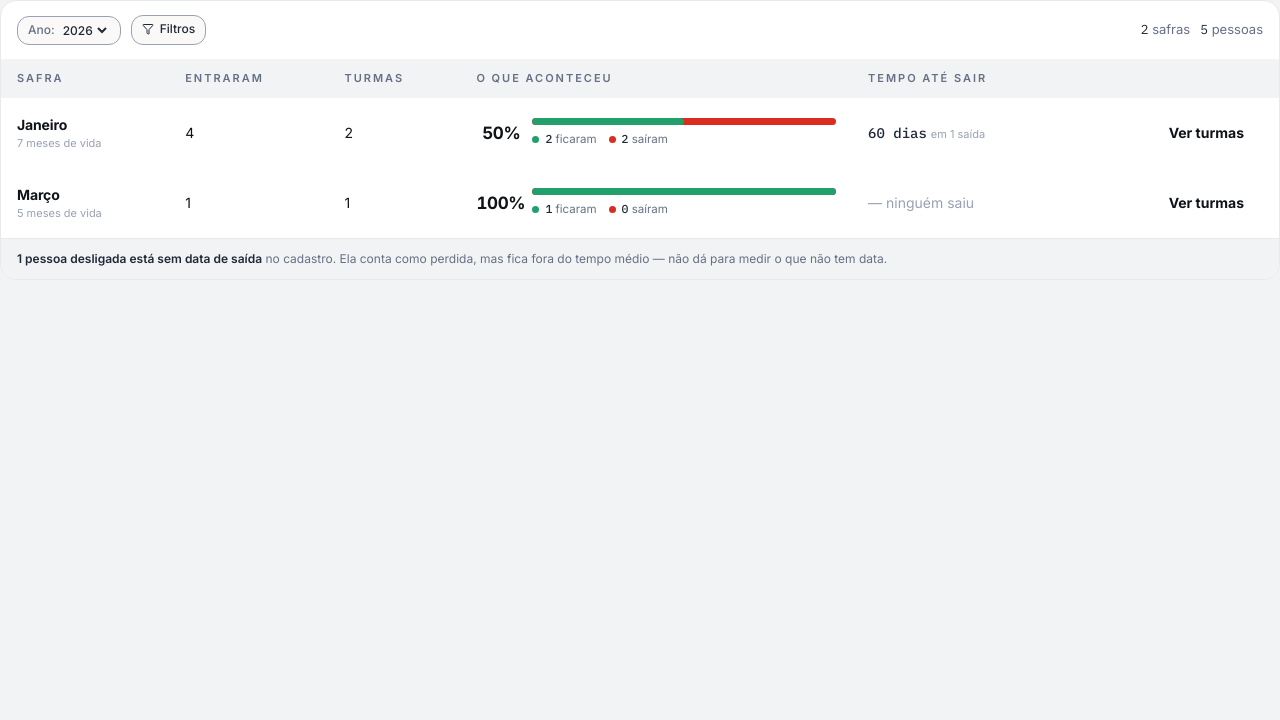
Test: Safra › abre a safra e mostra as turmas com as pessoas de cada uma
Click the button "Ver turmas" in the row of "Janeiro" at (1206, 133), box left=1150, top=110, right=1263, bottom=156
(page scrolled)
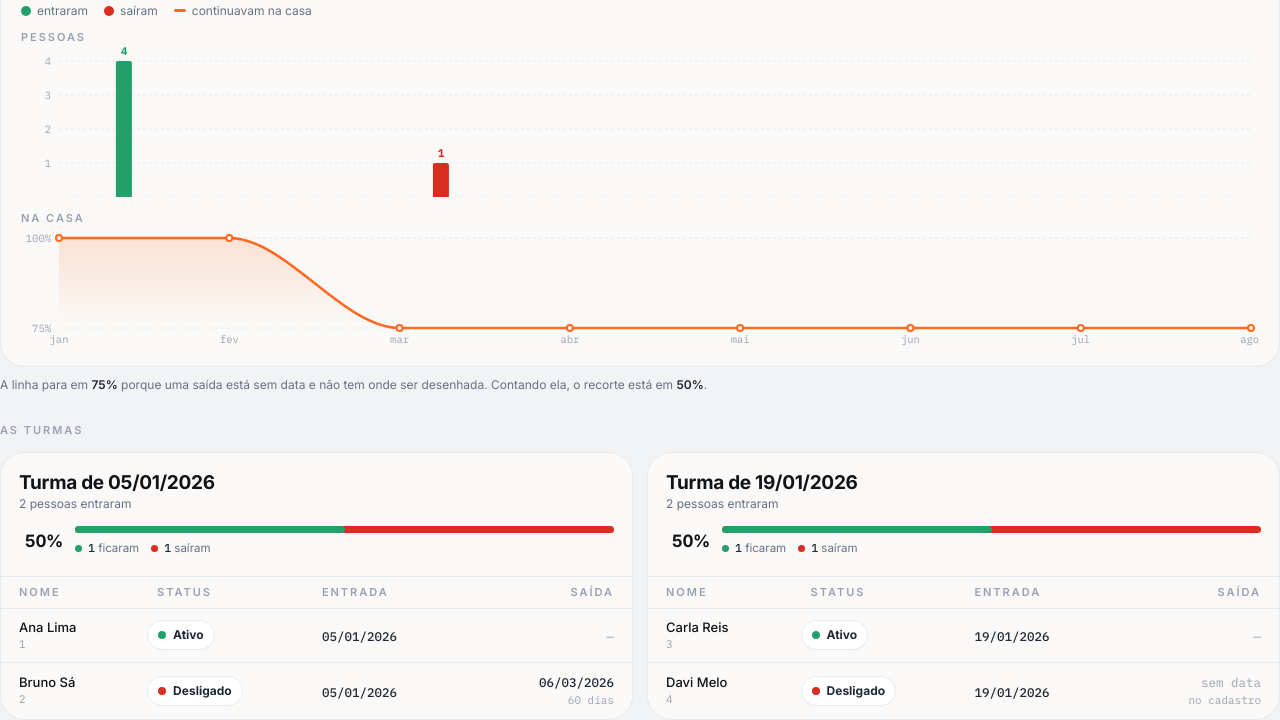
Expected: the heading "Turma de 05/01/2026" is shown, left=19, top=470, right=215, bottom=494
Expected: the heading "Turma de 19/01/2026" is shown, left=666, top=470, right=858, bottom=494
Expected: the text "Ana Lima" is shown, left=19, top=618, right=76, bottom=634
